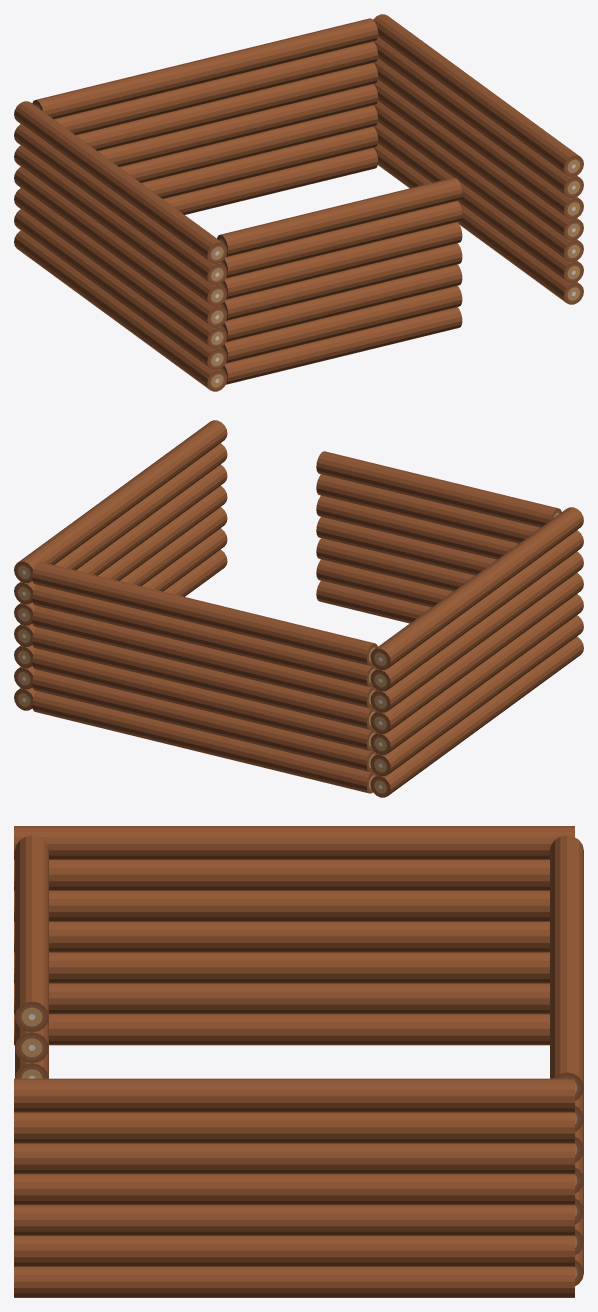
The model's file is house_walls.fbx.
The picture shows the model from 3 angles, top to bottom: view 1: azimuth 30°, elevation 25°; view 2: azimuth 150°, elevation 25°; view 3: azimuth 270°, elevation 25°; orthographic projection. The views are drawn at different scales.
Parts seen in each view (by area): view 1: Cylinder.001; view 2: Cylinder.001; view 3: Cylinder.001.
Boxes of the visible parts, left/top/right/bottom form: Cylinder.001: left=14, top=14, right=583, bottom=391; Cylinder.001: left=14, top=420, right=583, bottom=797; Cylinder.001: left=14, top=826, right=583, bottom=1297.
Bounding box in the file's own units: 3710 × 1400 × 3347.
